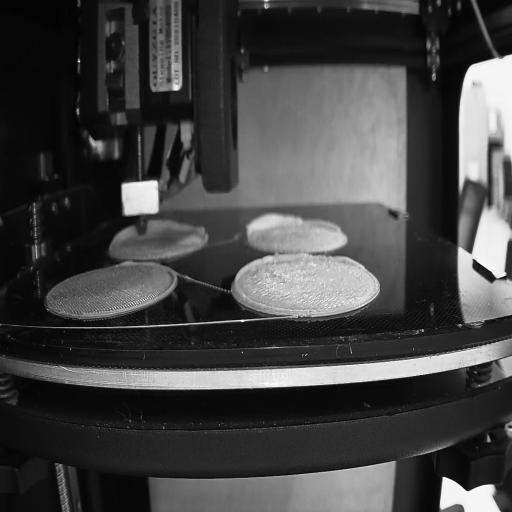over_extrusion: (235, 254, 298, 312), (242, 209, 304, 242), (146, 220, 212, 241), (111, 224, 137, 250), (331, 254, 367, 272), (311, 215, 343, 235), (116, 260, 138, 269)
